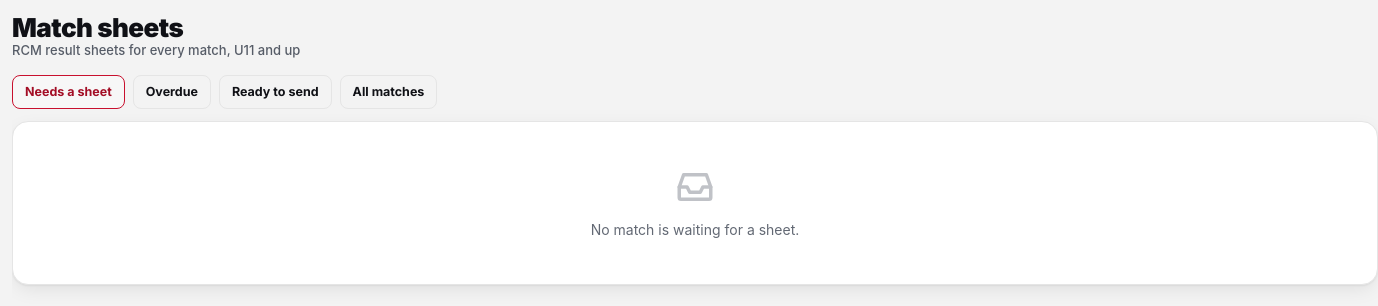
Test: YouthDashboard — the Club Youth Manager list › shows a submitted sheet as ready to send
Click the button "All matches" at (388, 92), box [340, 75, 437, 109]
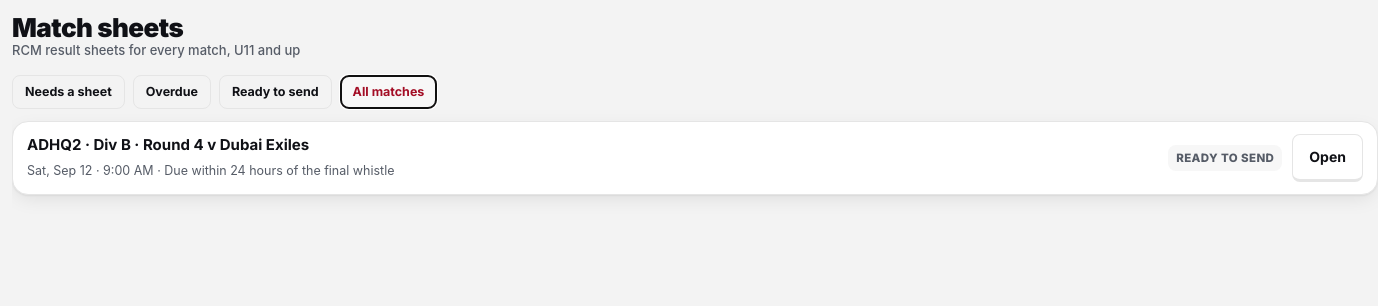
Now the text "Ready to send" is shown, box [1168, 145, 1282, 171]
